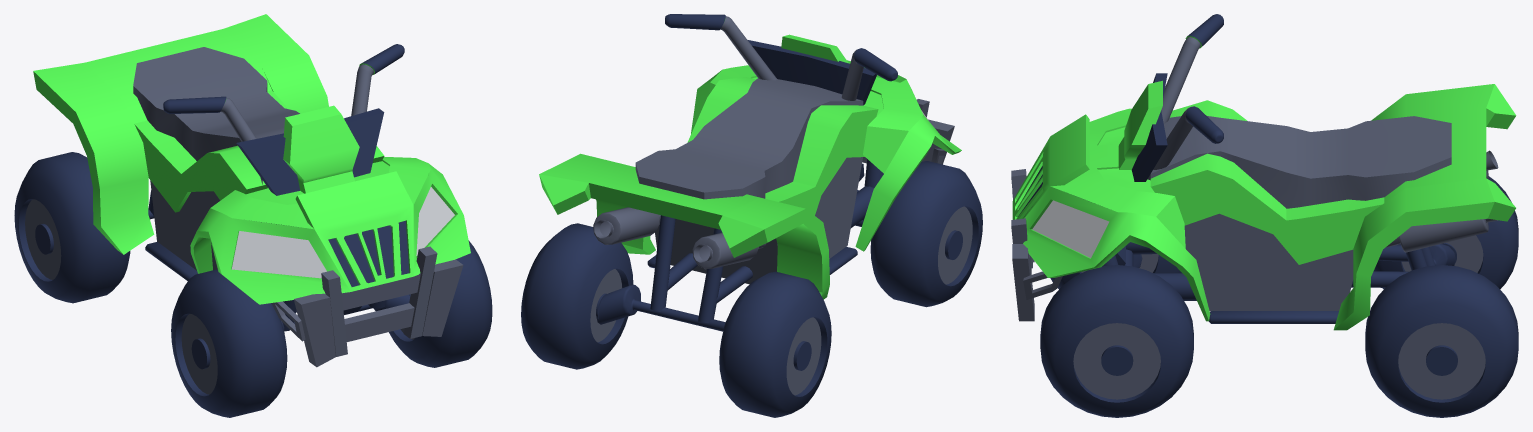
File: MOR_TEP_CUATRI.fbx
3 views of the same model, side by side, from view 1: azimuth 30°, elevation 25°; view 2: azimuth 150°, elevation 25°; view 3: azimuth 270°, elevation 25° (orthographic). The views are drawn at different scales.
Parts seen in each view (by area): view 1: MOR_TEP_CUATRI_LOD0; view 2: MOR_TEP_CUATRI_LOD0; view 3: MOR_TEP_CUATRI_LOD0.
Boxes of the visible parts, x1,y1,x2,y2 form: MOR_TEP_CUATRI_LOD0: (14, 14, 492, 417); MOR_TEP_CUATRI_LOD0: (521, 14, 982, 417); MOR_TEP_CUATRI_LOD0: (1011, 14, 1518, 417).
Size of what is drawn, in the model's own units: 71.52 by 70.14 by 112.
